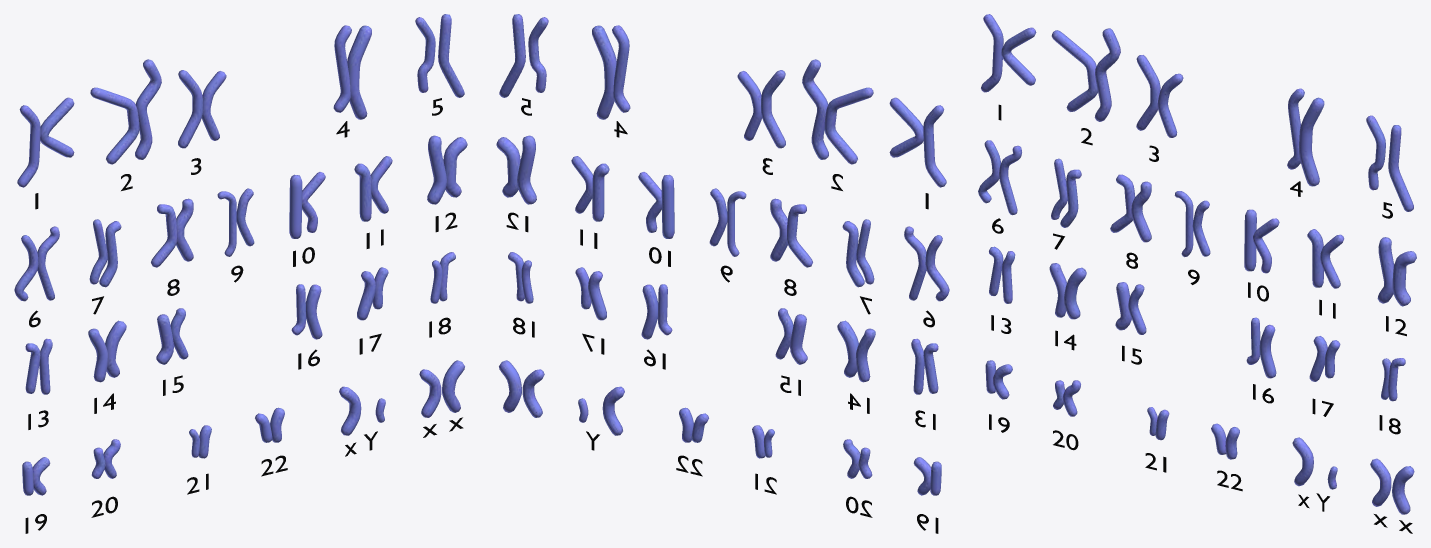
File: Karyotype.glb
3 views of the same model, side by side, from view 1: azimuth 30°, elevation 25°; view 2: azimuth 150°, elevation 25°; view 3: azimuth 330°, elevation 25° (orthographic). The views are drawn at different scales.
Parts seen in each view (by area): view 1: Karyotype, Numbers; view 2: Karyotype, Numbers; view 3: Karyotype, Numbers.
Part boxes in pixels (x1=…): Karyotype: x1=14, y1=14, x2=467, y2=495; Numbers: x1=25, y1=98, x2=463, y2=533; Karyotype: x1=496, y1=14, x2=949, y2=495; Numbers: x1=506, y1=98, x2=938, y2=533; Karyotype: x1=978, y1=14, x2=1416, y2=514; Numbers: x1=989, y1=104, x2=1412, y2=533.
Size of the model in its own units: 65.16 by 61.36 by 1.72.
2 materials, 2 textured.
